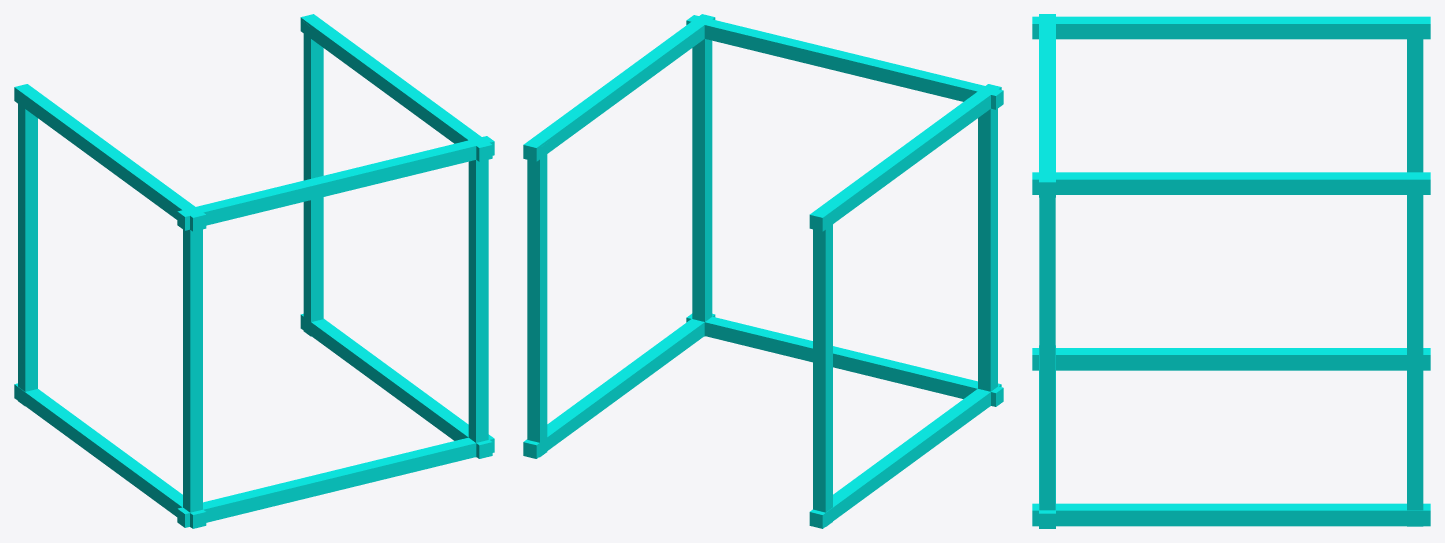
File: CubeScaffold2.001.fbx
The picture shows the model from 3 angles, left to right: view 1: azimuth 30°, elevation 25°; view 2: azimuth 150°, elevation 25°; view 3: azimuth 270°, elevation 25°; orthographic projection. The views are drawn at different scales.
Visible parts, largest first — view 1: UTM_Scaffolding2_01; view 2: UTM_Scaffolding2_01; view 3: UTM_Scaffolding2_01.
Boxes of the visible parts, x1,y1,x2,y2 form: UTM_Scaffolding2_01: [14, 14, 494, 528]; UTM_Scaffolding2_01: [523, 14, 1003, 528]; UTM_Scaffolding2_01: [1032, 14, 1430, 528].
Bounding box in the file's own units: 419 × 403 × 419.
